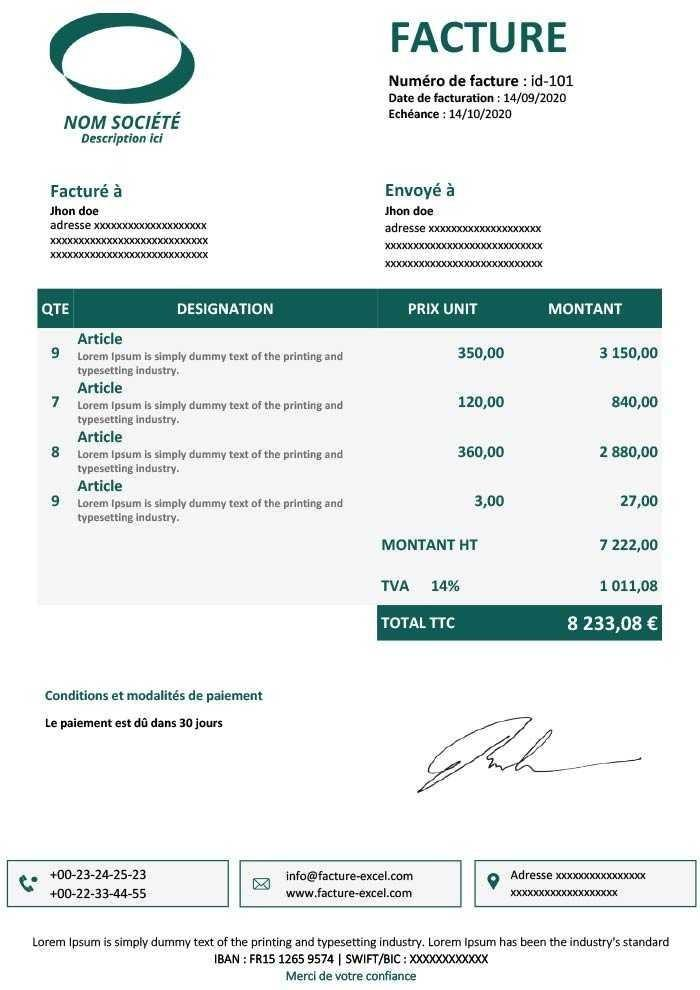ROI: (40, 298, 661, 594), (40, 181, 227, 271), (382, 71, 580, 123), (47, 105, 212, 167), (44, 687, 267, 731), (380, 612, 661, 636)
